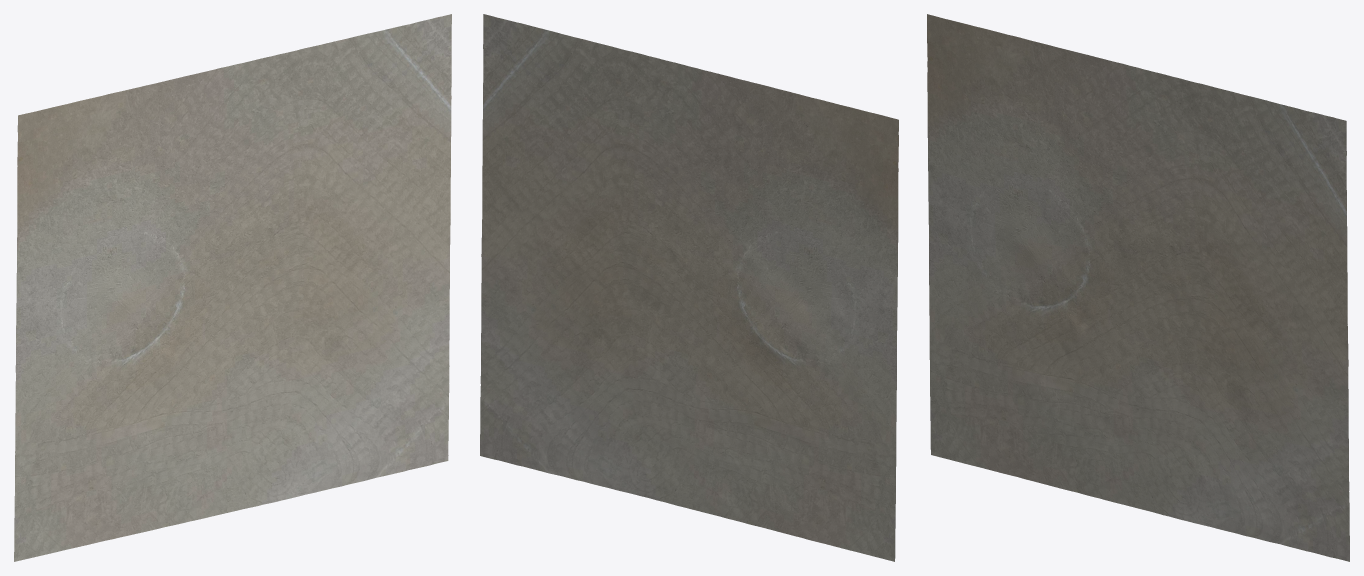
The model's file is Tile_+019_+013.fbx.
3 views of the same model, side by side, from view 1: azimuth 30°, elevation 25°; view 2: azimuth 150°, elevation 25°; view 3: azimuth 330°, elevation 25° (orthographic). The views are drawn at different scales.
Visible parts, largest first — view 1: DefaultName; view 2: DefaultName; view 3: DefaultName.
Boxes of the visible parts, x1,y1,x2,y2 form: DefaultName: (14,14,451,561); DefaultName: (480,14,898,561); DefaultName: (927,14,1349,561).
Size of the model in its own units: 22.54 by 22.54 by 0.7748.
